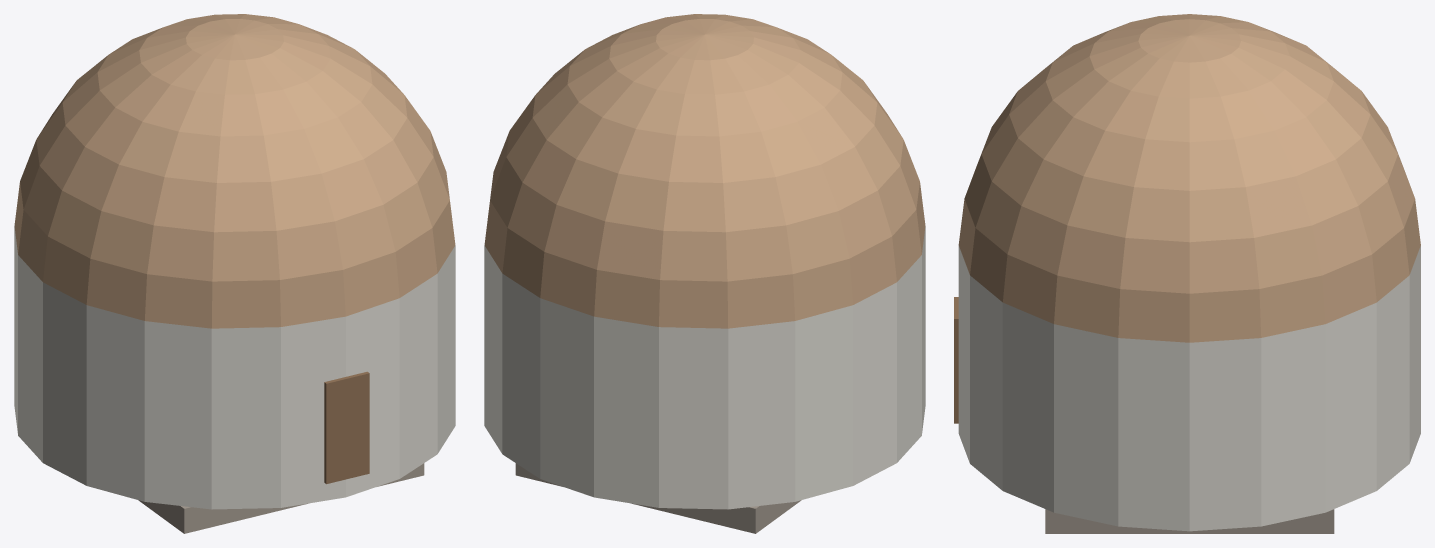
The model's file is Observatory.fbx.
The picture shows the model from 3 angles, left to right: view 1: azimuth 30°, elevation 25°; view 2: azimuth 150°, elevation 25°; view 3: azimuth 270°, elevation 25°; orthographic projection. The views are drawn at different scales.
Parts seen in each view (by area): view 1: Observatory; view 2: Observatory; view 3: Observatory.
Boxes of the visible parts, x1,y1,x2,y2 form: Observatory: (14,14,455,533); Observatory: (484,14,925,533); Observatory: (954,14,1420,533).
Bounding box in the file's own units: 4 × 4.18 × 4.04.
